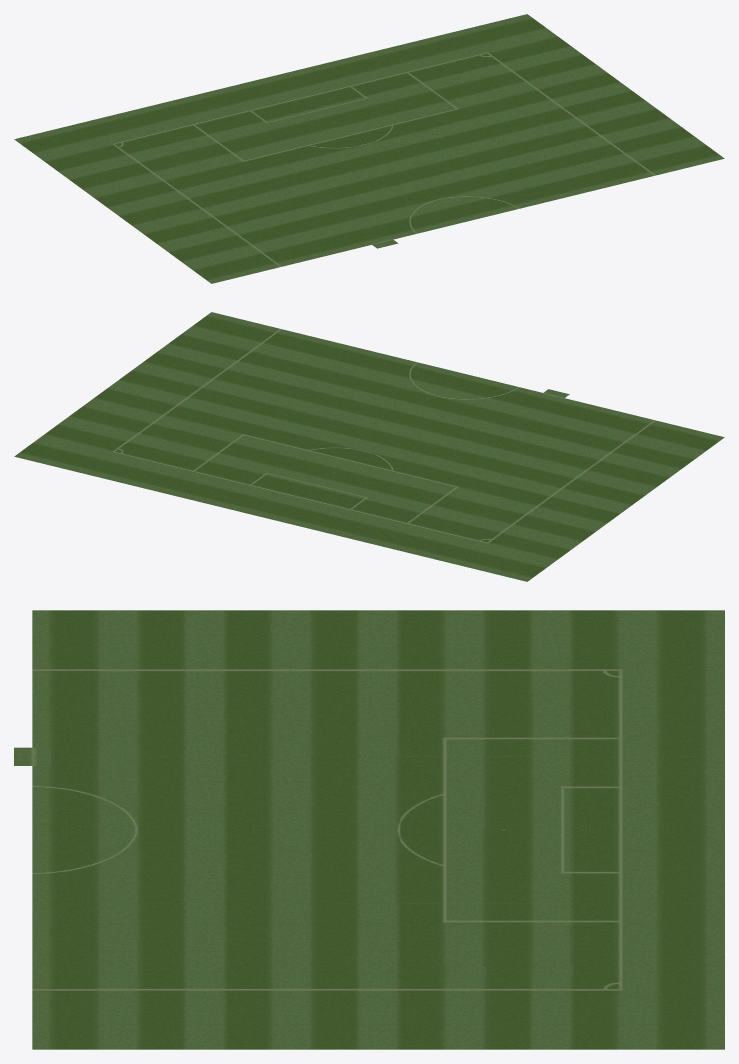
3 renders of one model, top to bottom at view 1: azimuth 30°, elevation 25°; view 2: azimuth 150°, elevation 25°; view 3: azimuth 270°, elevation 25°, orthographic. The views are drawn at different scales.
Size of the model in its own units: 92.4 by 0 by 63.24.
Materials: 4 (4 with a texture image).
